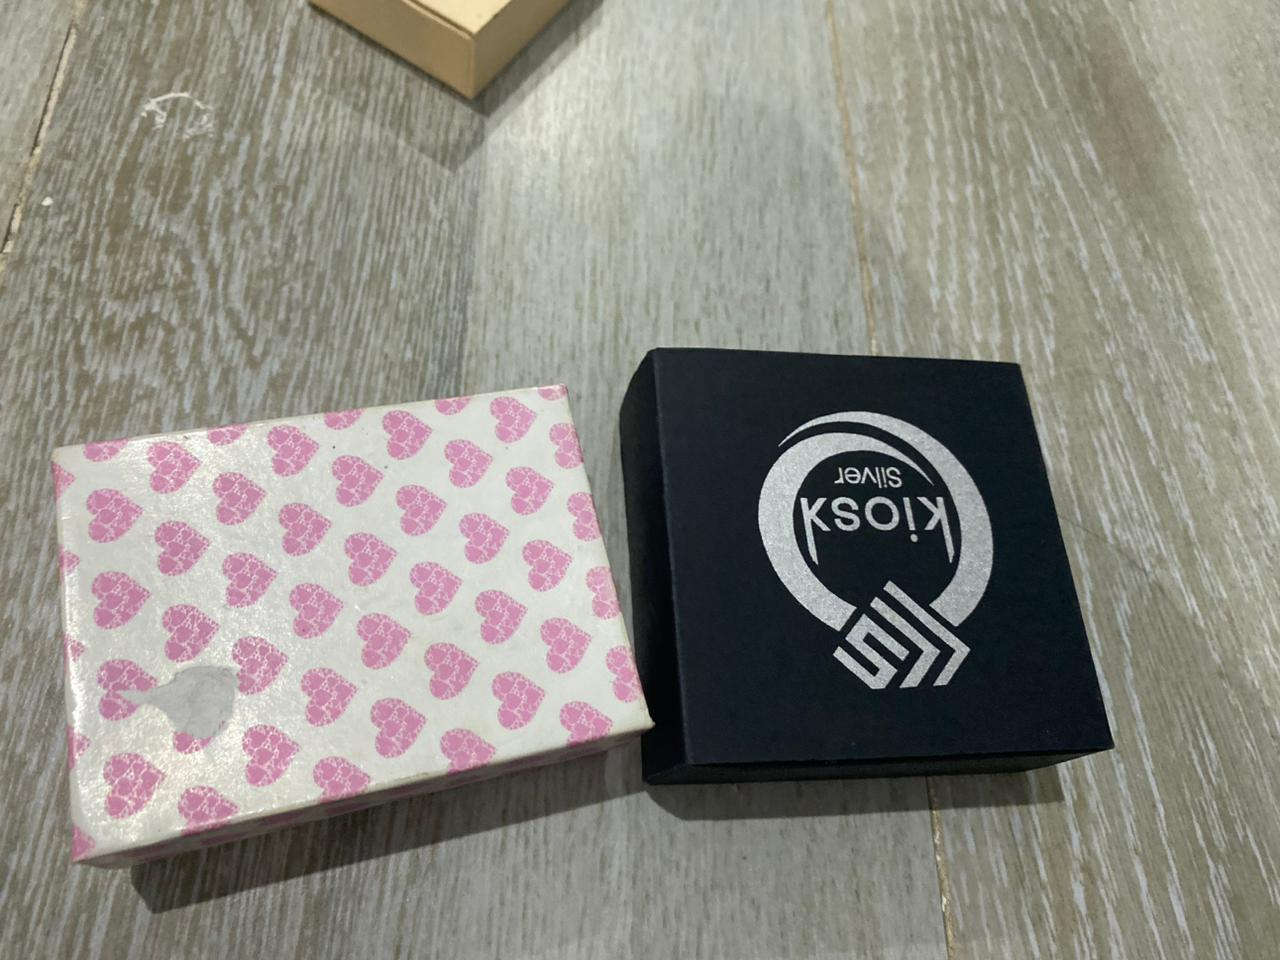Pink Box: (49, 383, 659, 873)
Red Box: (610, 347, 1118, 791)
